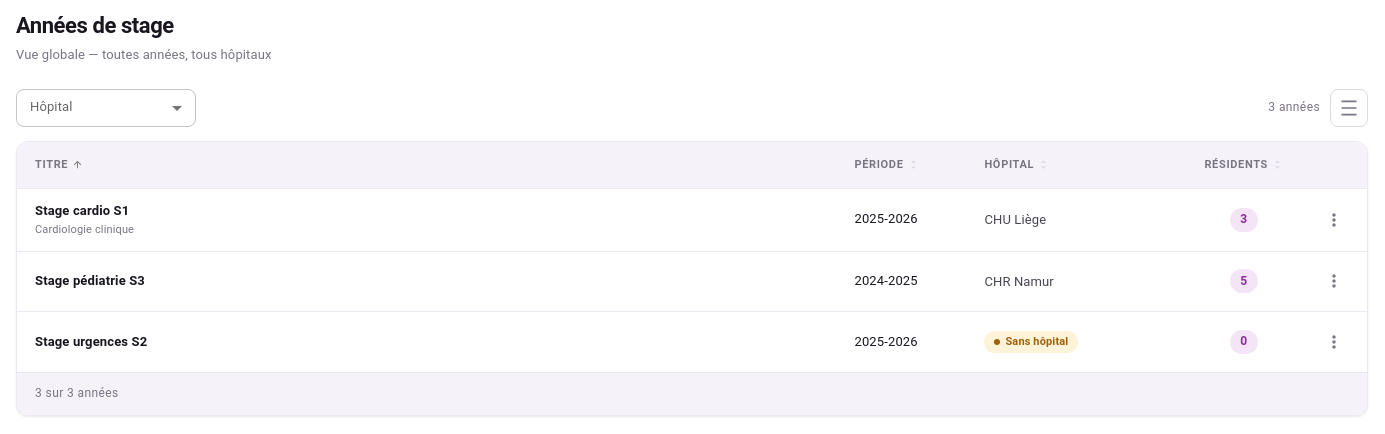
AdminYearsPage › le menu 3-points affiche 'Changer l\'hôpital'
Check: the text "Stage cardio S1" is shown, box [35,202,129,218]
What coordinates should you click on to do the following:
click the button with test id "MoreVertIcon"
I would click on:
 (1334, 220)
Its box is [1319,205,1349,235].
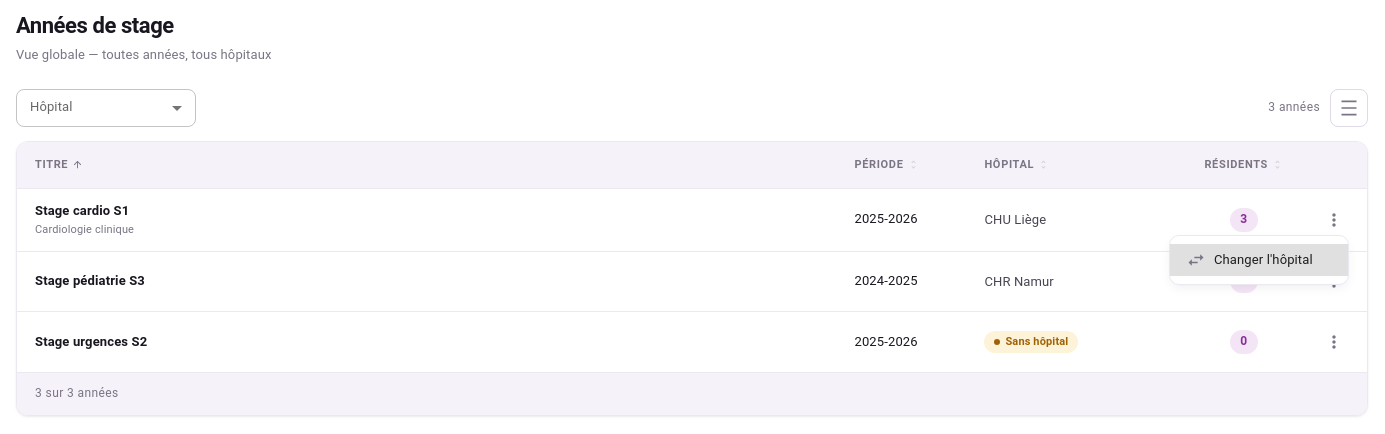
Check: the menu item "Changer l'hôpital" is shown, box [1170,244,1348,276]
